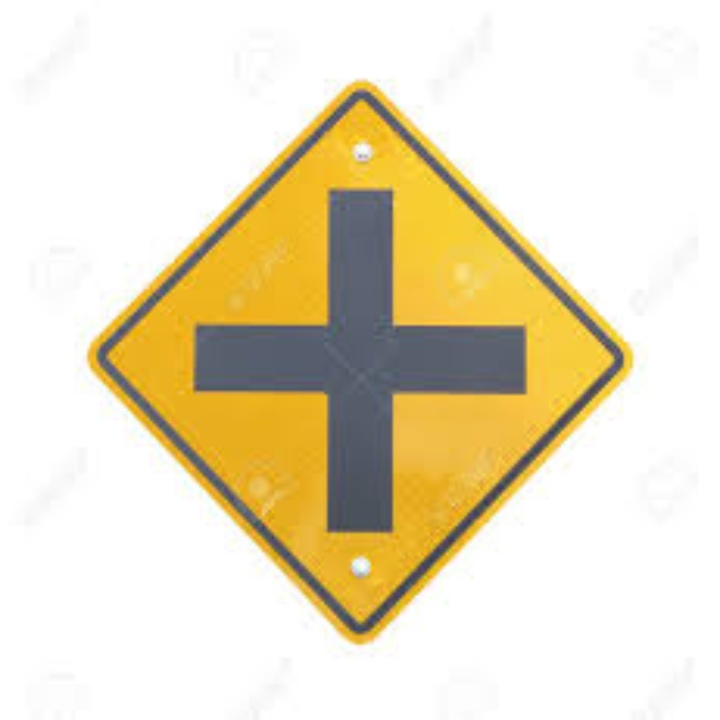inter: (187, 183, 532, 544)
